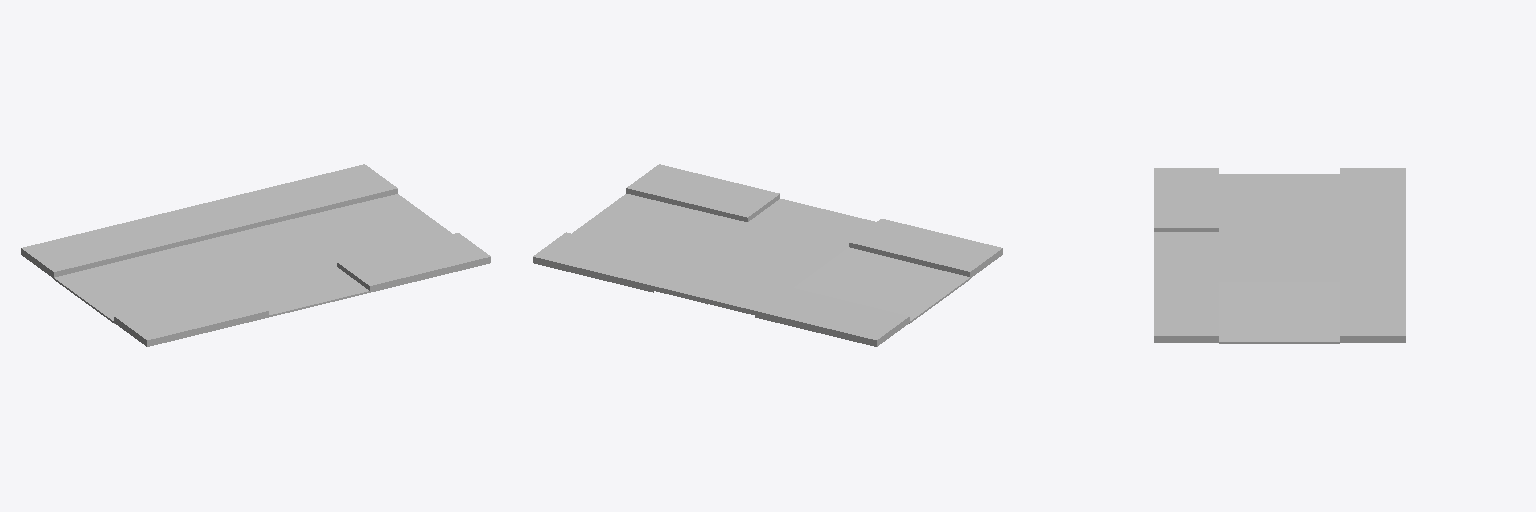
The model's file is Rua+1.obj.
3 renders of one model, left to right at view 1: azimuth 30°, elevation 25°; view 2: azimuth 150°, elevation 25°; view 3: azimuth 270°, elevation 25°, orthographic.
Parts seen in each view (by area): view 1: Cube.001_Cube.002; view 2: Cube.001_Cube.002; view 3: Cube.001_Cube.002.
Boxes of the visible parts, x1,y1,x2,y2 form: Cube.001_Cube.002: [21, 164, 490, 346]; Cube.001_Cube.002: [533, 164, 1002, 346]; Cube.001_Cube.002: [1154, 168, 1405, 343].
Size of the model in its own units: 79.79 by 1.62 by 50.72.